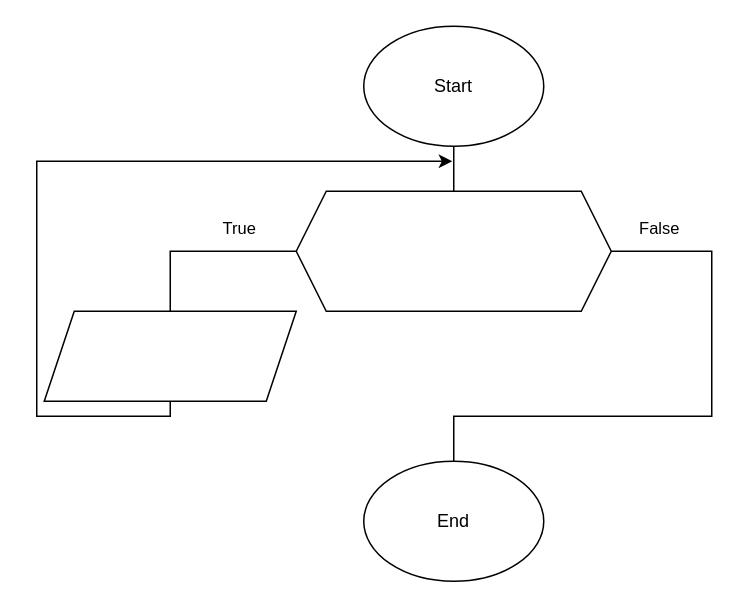
Image size: 740x608. Some labels were removed from this diagram. The centre of each missing label's shape, as x and y in pixels:
_collection[i]: point 169,355
i = 0; i < _counter; i++: point 453,250
